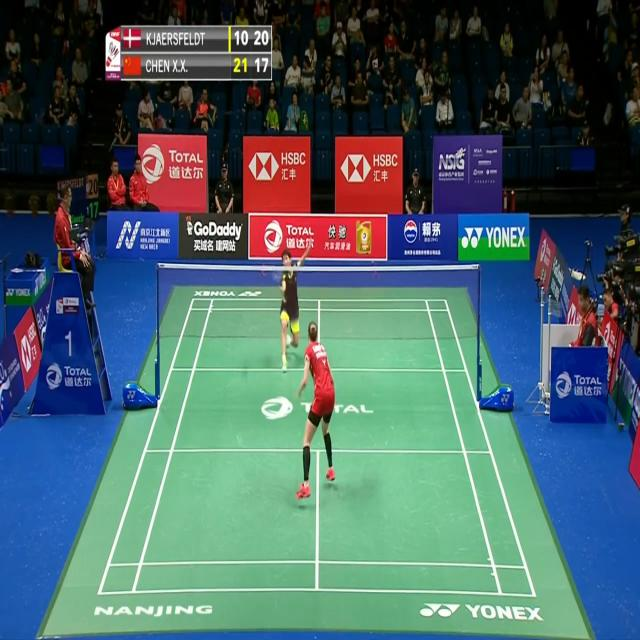Player1: (295, 316, 341, 506)
Player2: (278, 234, 315, 374)
